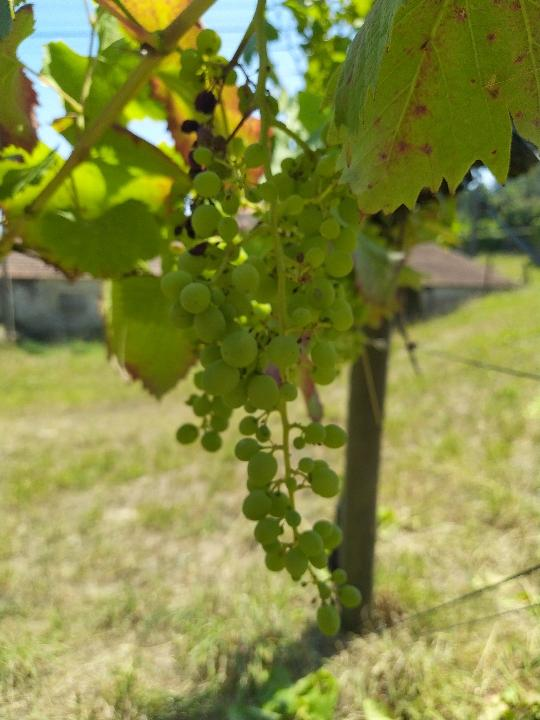grape: (157, 135, 366, 644)
